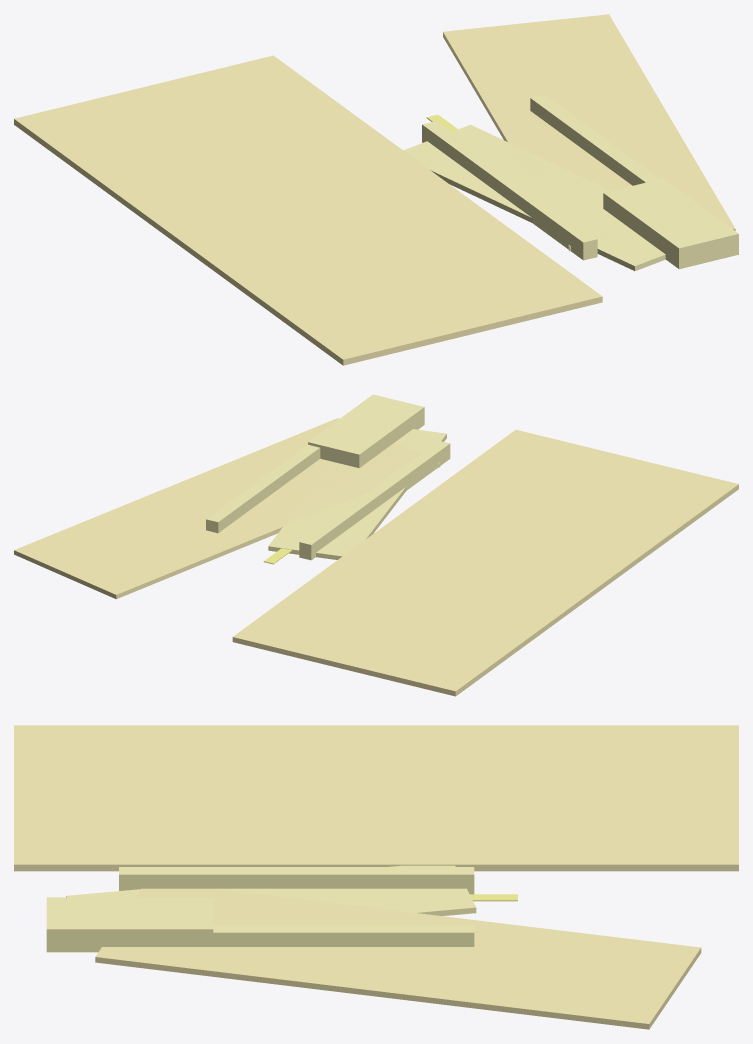
File: road_slip_lane_ped_island.glb
The picture shows the model from 3 angles, top to bottom: view 1: azimuth 30°, elevation 25°; view 2: azimuth 150°, elevation 25°; view 3: azimuth 270°, elevation 25°; orthographic projection. The views are drawn at different scales.
Parts seen in each view (by area): view 1: through_lane, slip_lane, ped_island_apron, ped_island_nose, curb_left, curb_right; view 2: through_lane, slip_lane, ped_island_apron, ped_island_nose, curb_left, curb_right; view 3: through_lane, slip_lane, ped_island_nose, curb_left, curb_right, ped_island_apron.
Part boxes in pixels (left/top/right/bottom): through_lane: left=14, top=55, right=602, bottom=365; slip_lane: left=443, top=14, right=735, bottom=251; ped_island_apron: left=403, top=124, right=665, bottom=270; ped_island_nose: left=603, top=178, right=738, bottom=269; curb_left: left=422, top=121, right=597, bottom=260; curb_right: left=530, top=94, right=659, bottom=185; through_lane: left=232, top=429, right=738, bottom=696; slip_lane: left=14, top=418, right=440, bottom=599; ped_island_apron: left=268, top=429, right=446, bottom=559; ped_island_nose: left=308, top=394, right=424, bottom=468; curb_left: left=299, top=440, right=450, bottom=560; curb_right: left=206, top=444, right=320, bottom=533; through_lane: left=14, top=725, right=738, bottom=871; slip_lane: left=95, top=888, right=701, bottom=1029; ped_island_nose: left=46, top=897, right=213, bottom=952; curb_left: left=119, top=867, right=474, bottom=894; curb_right: left=119, top=925, right=474, bottom=946; ped_island_apron: left=66, top=865, right=476, bottom=916.
Size of the model in its own units: 3.89 by 0.14 by 4.
